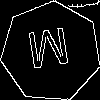M: (25, 27, 73, 79)
